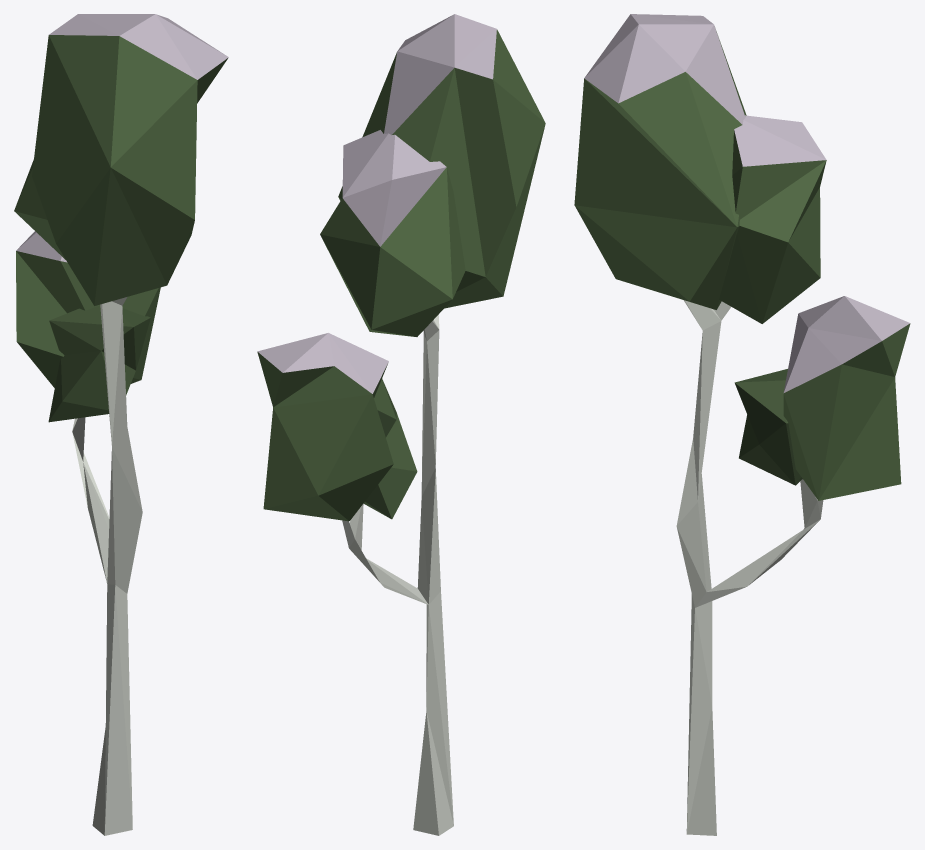
The model's file is BirchTree_Snow_5.lod3.glb.
The picture shows the model from 3 angles, left to right: view 1: azimuth 30°, elevation 25°; view 2: azimuth 150°, elevation 25°; view 3: azimuth 270°, elevation 25°; orthographic projection. The views are drawn at different scales.
Visible parts, largest first — view 1: BirchTree_Snow_5; view 2: BirchTree_Snow_5; view 3: BirchTree_Snow_5.
Boxes of the visible parts, bbox=[...] form: BirchTree_Snow_5: bbox=[14, 14, 228, 835]; BirchTree_Snow_5: bbox=[257, 14, 545, 835]; BirchTree_Snow_5: bbox=[574, 14, 910, 835].
Bounding box in the file's own units: 1.14 × 5.04 × 1.9.
